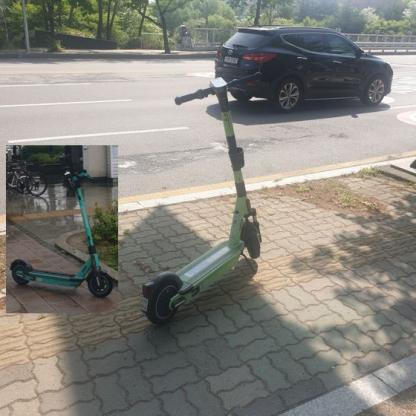kickboard: (143, 72, 261, 326), (10, 172, 118, 299)
